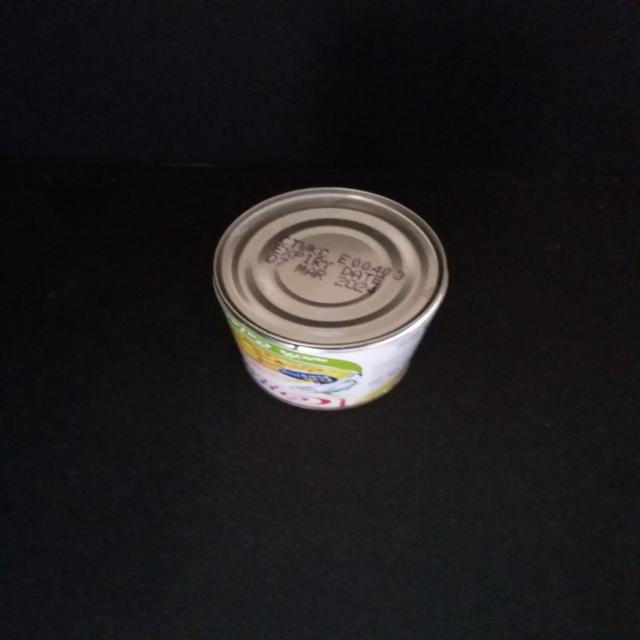metal-can: (208, 182, 455, 416)
